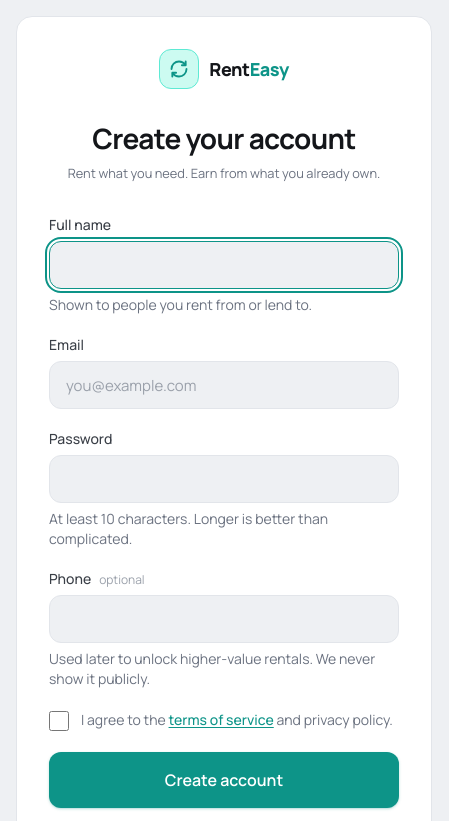
Scenario: RegisterPage › shows the server's message when the terms have moved on
The width and height of the screenshot is (449, 821).
Type "Asha Patil" into the field labelled "Full name" at (224, 265), box [49,241,399,289]
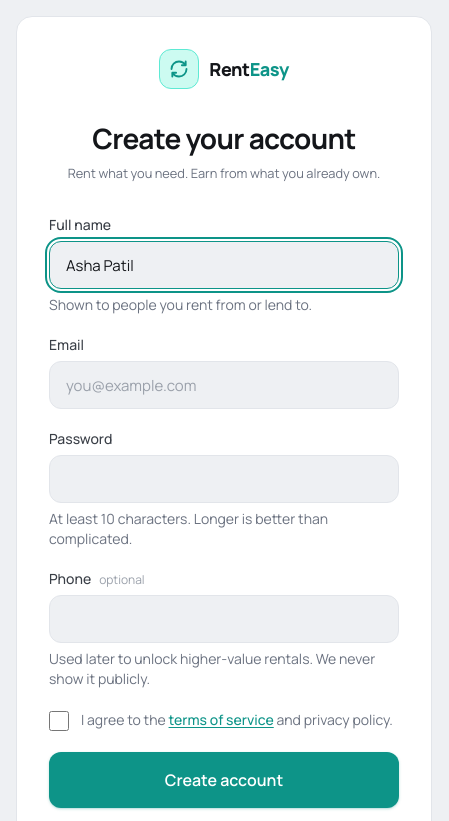
Type "asha@example.test" into the field labelled "Email" at (224, 385), box [49,361,399,409]
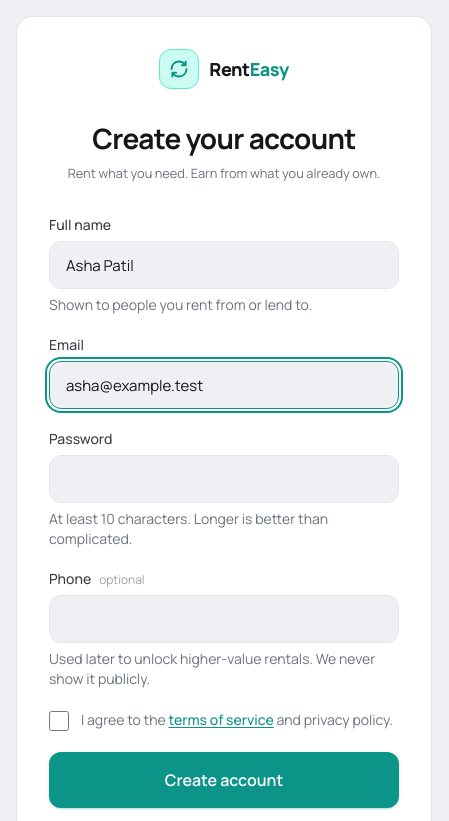
Type "a-good-password" into the password field labelled "Password" at (224, 479), box [49,455,399,503]
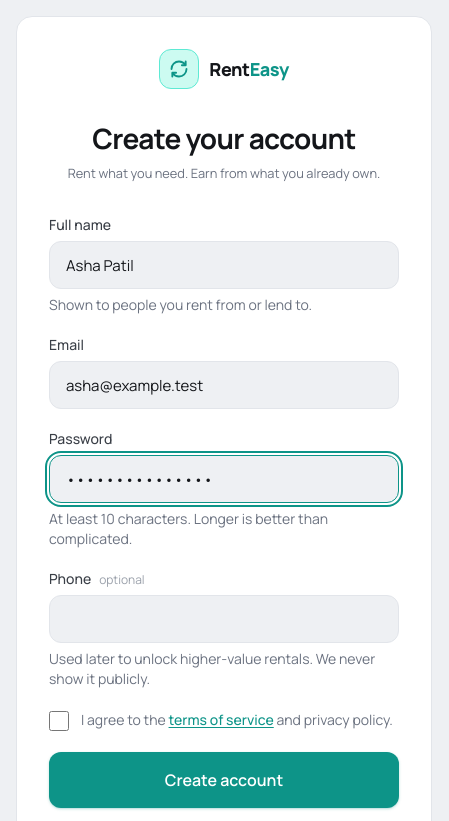
Click the checkbox at (59, 721), box [49,711,69,731]
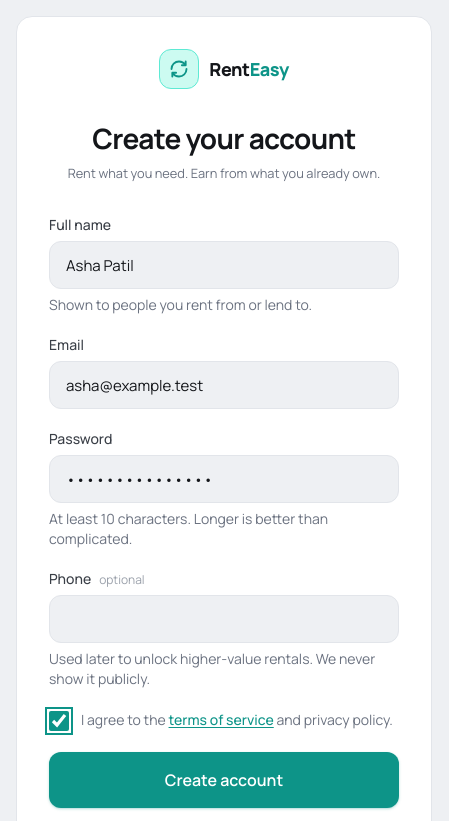
Click the button "Create account" at (224, 780), box [49,752,399,808]
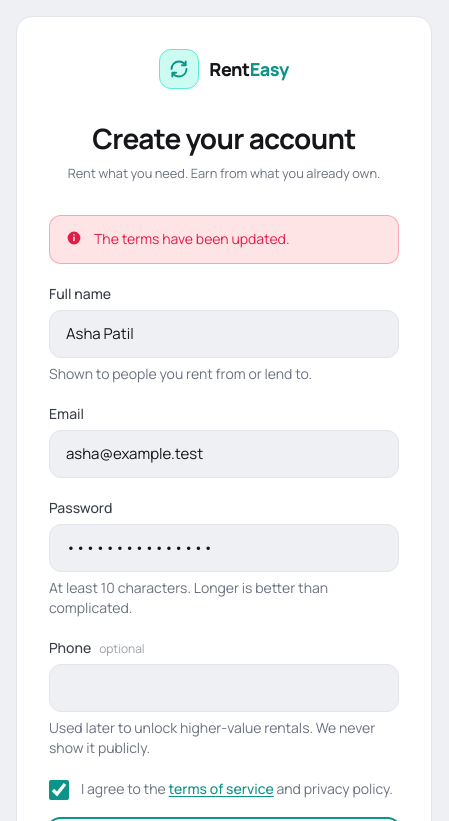
Expected: the message shows "terms have been updated", [94,229,290,248]
